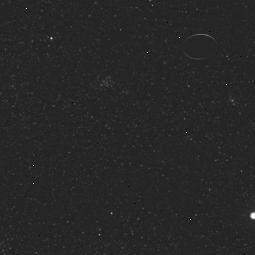debris: (178, 27, 223, 68)
